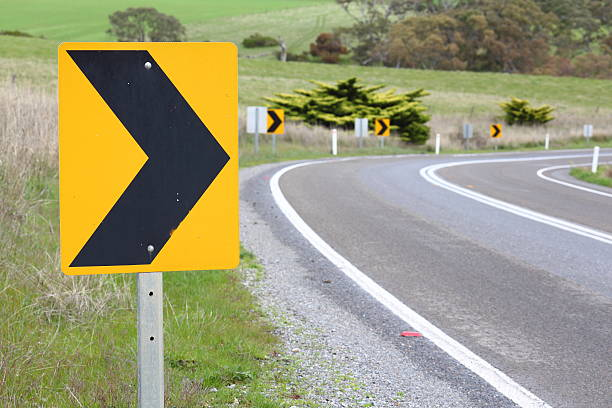right turn: (58, 42, 239, 268), (266, 108, 284, 135), (374, 119, 390, 137), (490, 123, 503, 139)
